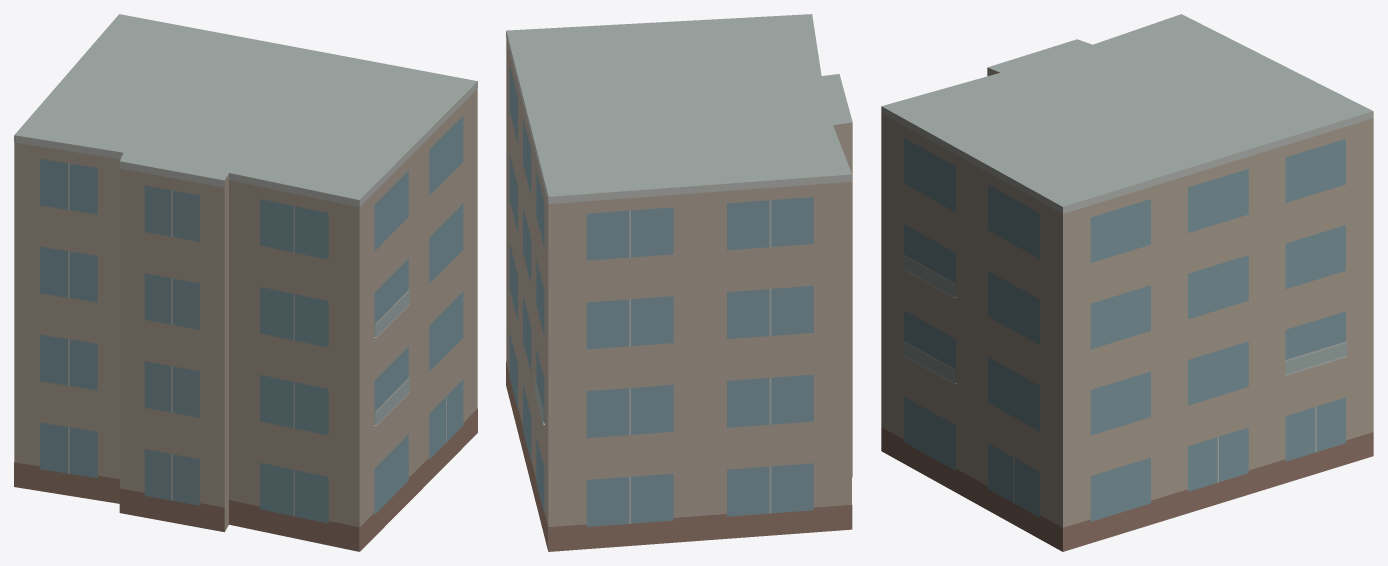
The model's file is survey-upis-32967589.glb.
3 renders of one model, left to right at view 1: azimuth 30°, elevation 25°; view 2: azimuth 150°, elevation 25°; view 3: azimuth 270°, elevation 25°, orthographic. The views are drawn at different scales.
Visible parts, largest first — view 1: survey-upis-32967589.tmp; view 2: survey-upis-32967589.tmp; view 3: survey-upis-32967589.tmp.
Part boxes in pixels (<box>): survey-upis-32967589.tmp: <box>14,14,477,551</box>; survey-upis-32967589.tmp: <box>506,14,852,551</box>; survey-upis-32967589.tmp: <box>881,14,1373,551</box>.
Size of the model in its own units: 14.28 by 11.9 by 15.4.
